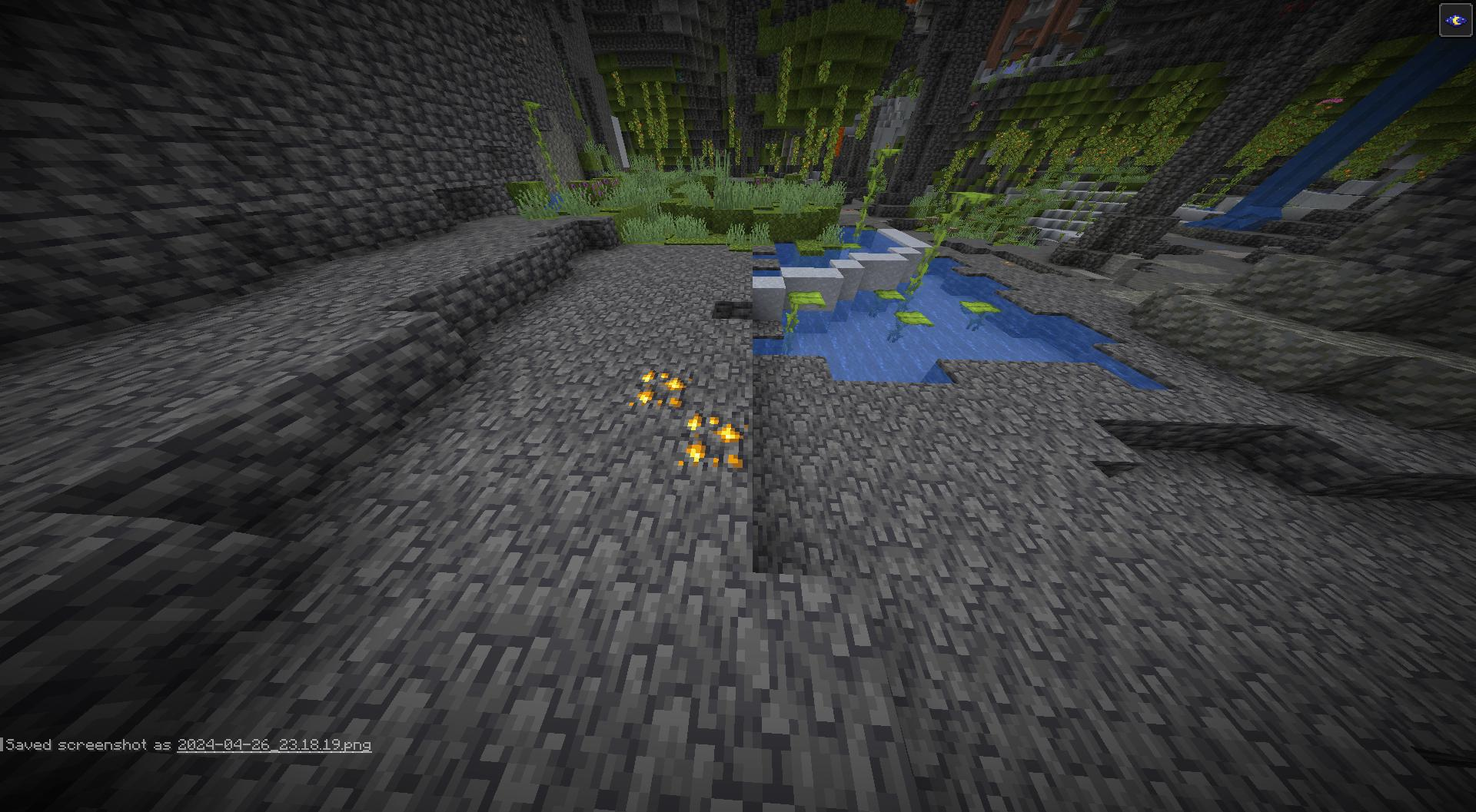gold ore: (679, 410, 760, 472), (633, 365, 687, 416)
